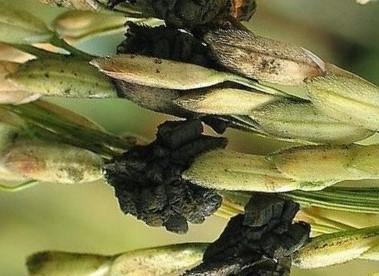False Smut: (102, 115, 228, 238), (187, 190, 315, 276), (109, 20, 225, 69), (101, 0, 264, 34)
